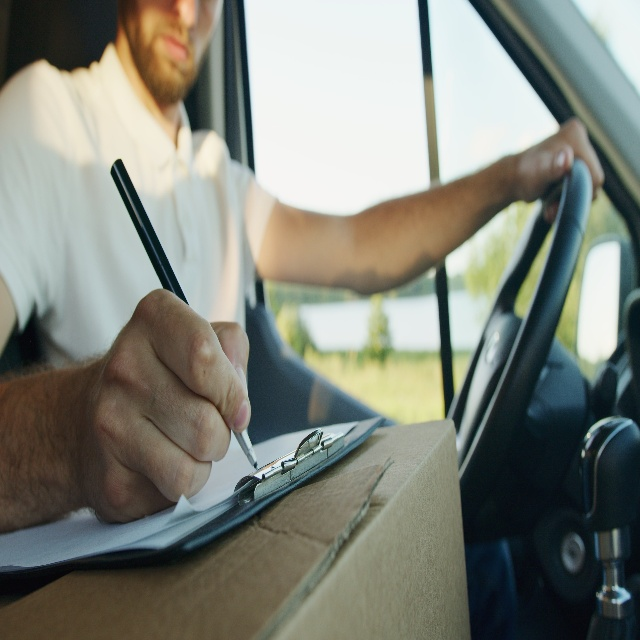Sin_guantes: (85, 288, 251, 511), (512, 116, 604, 226)
